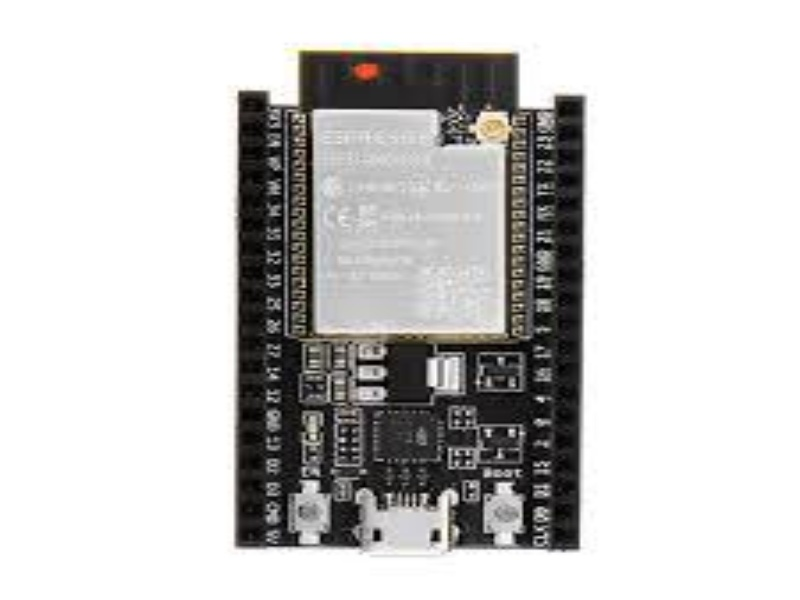esp32: (203, 36, 628, 563)
